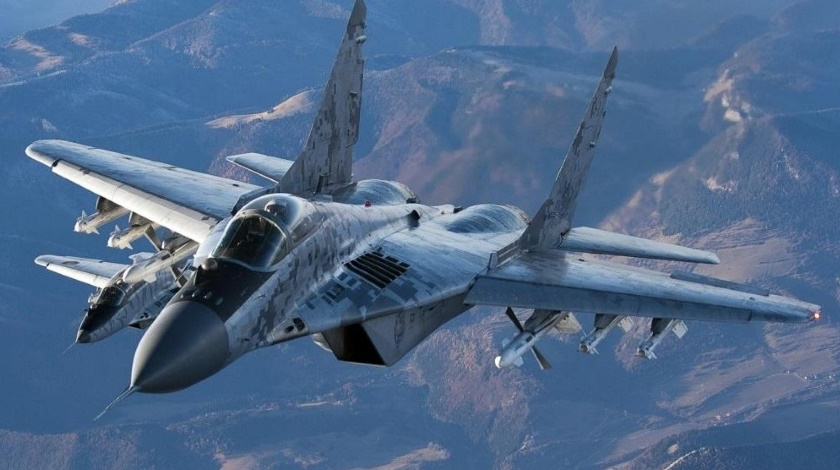Mig-29: (74, 31, 793, 401)
